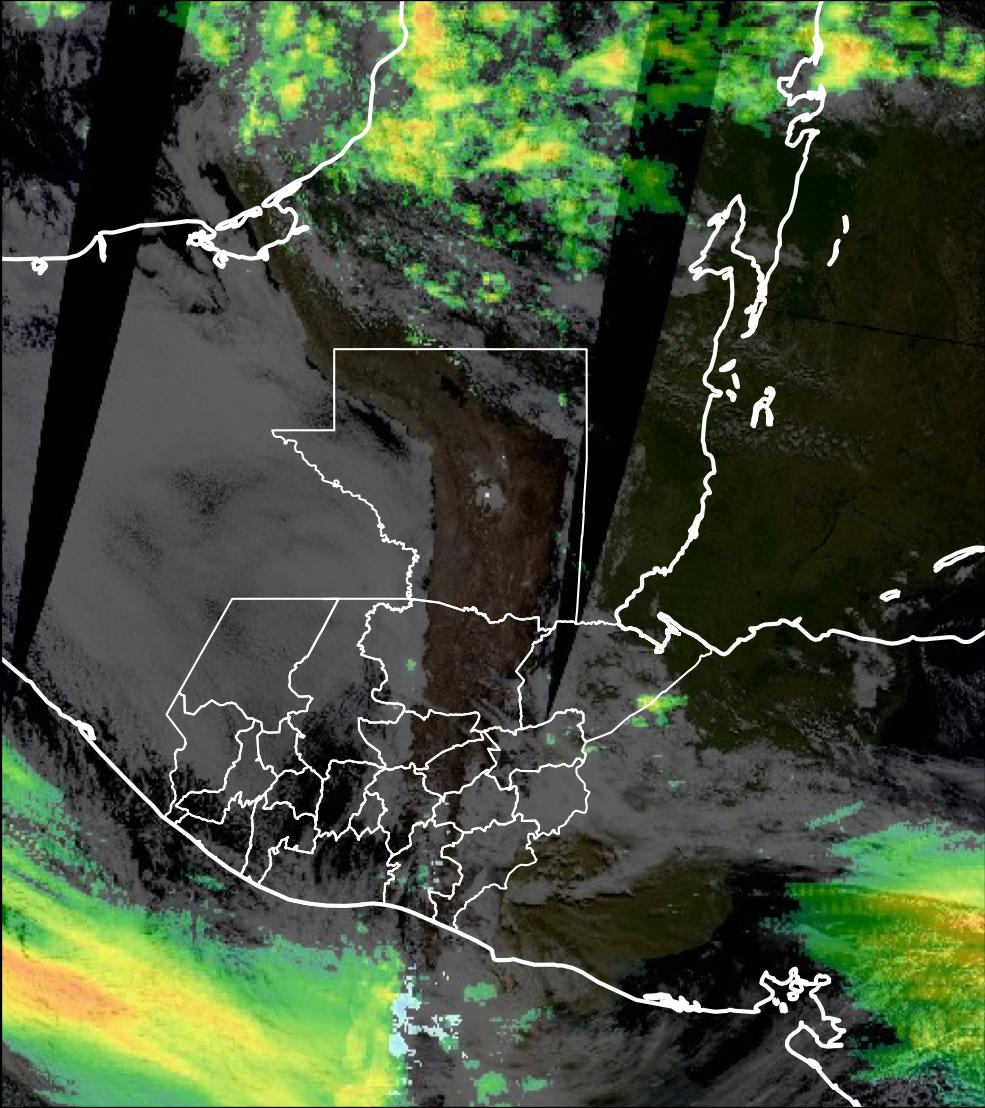precipitacion: (1, 941, 144, 1067)
